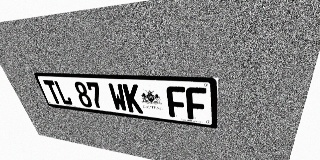7: (85, 82, 106, 109)
8: (73, 81, 93, 108)
F: (186, 87, 207, 121), (166, 86, 187, 119)
K: (122, 84, 143, 114)
L: (53, 80, 73, 106)
T: (43, 80, 63, 104)
W: (107, 83, 128, 112)
